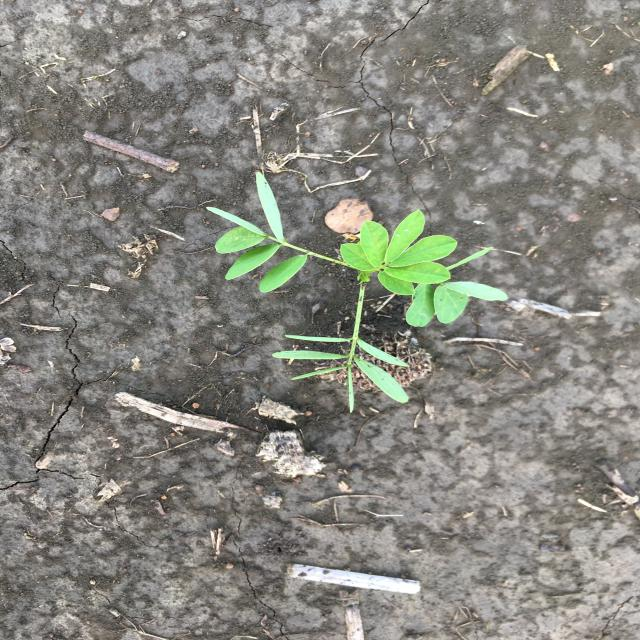Sicklepod: (203, 167, 511, 413)
